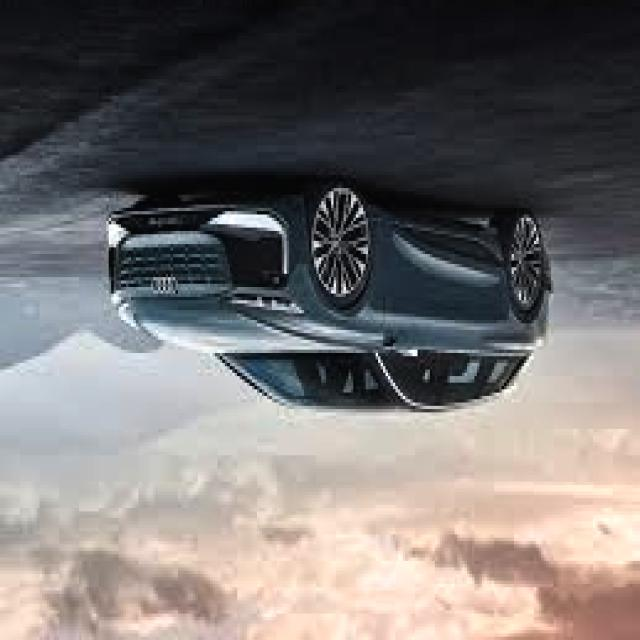blue: (109, 188, 555, 412)
